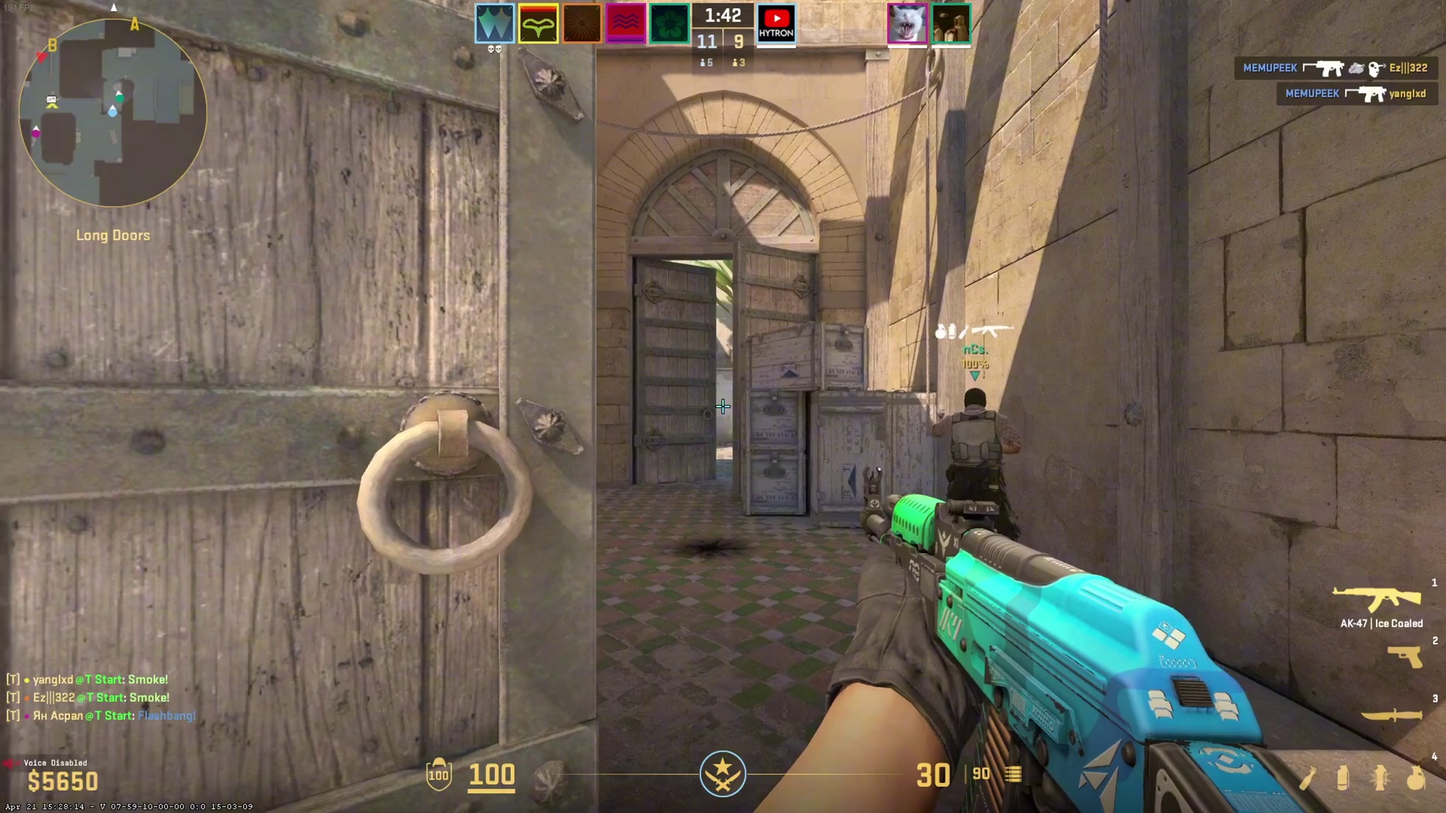Terrorist: (944, 388, 1017, 543)
